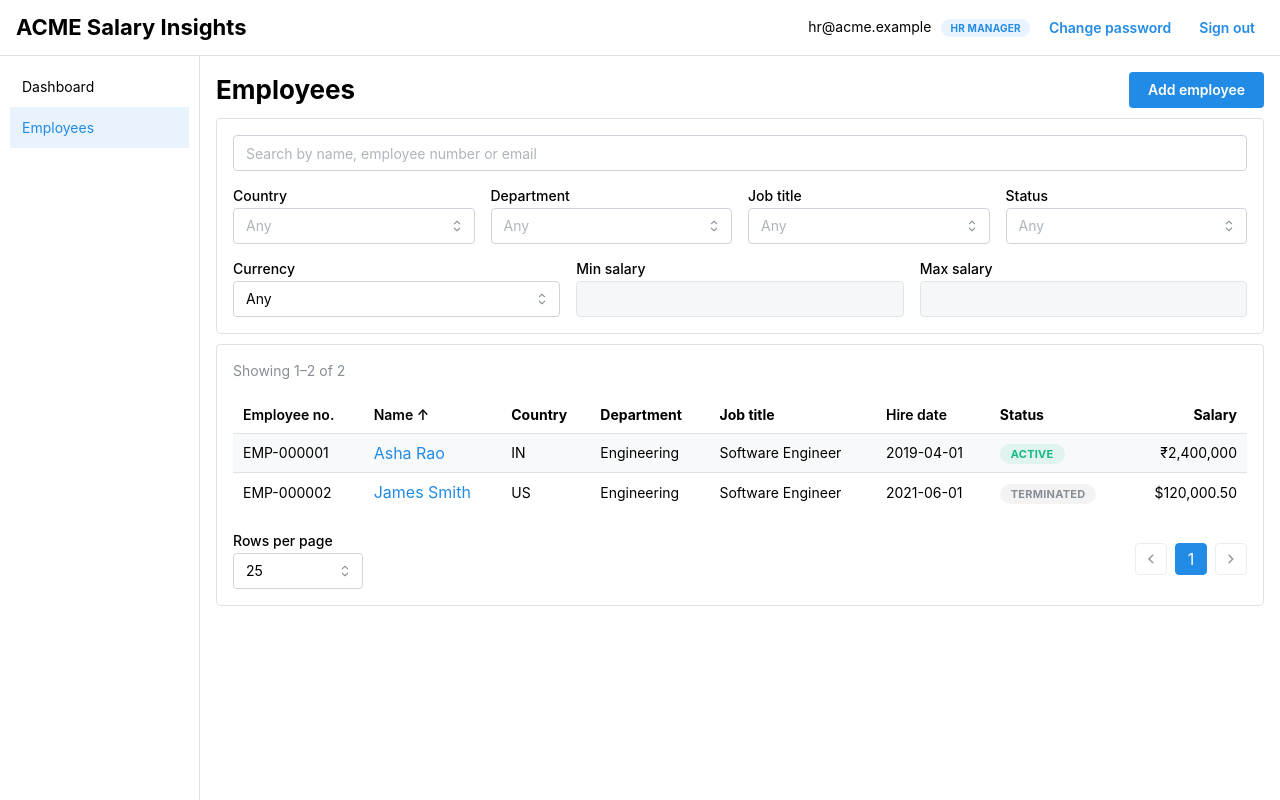
Test: Employee pages › from the directory › links each name to that employee’s page
Step 1. Click the link "Asha Rao" → x=409, y=453, box [374,443,445,463]
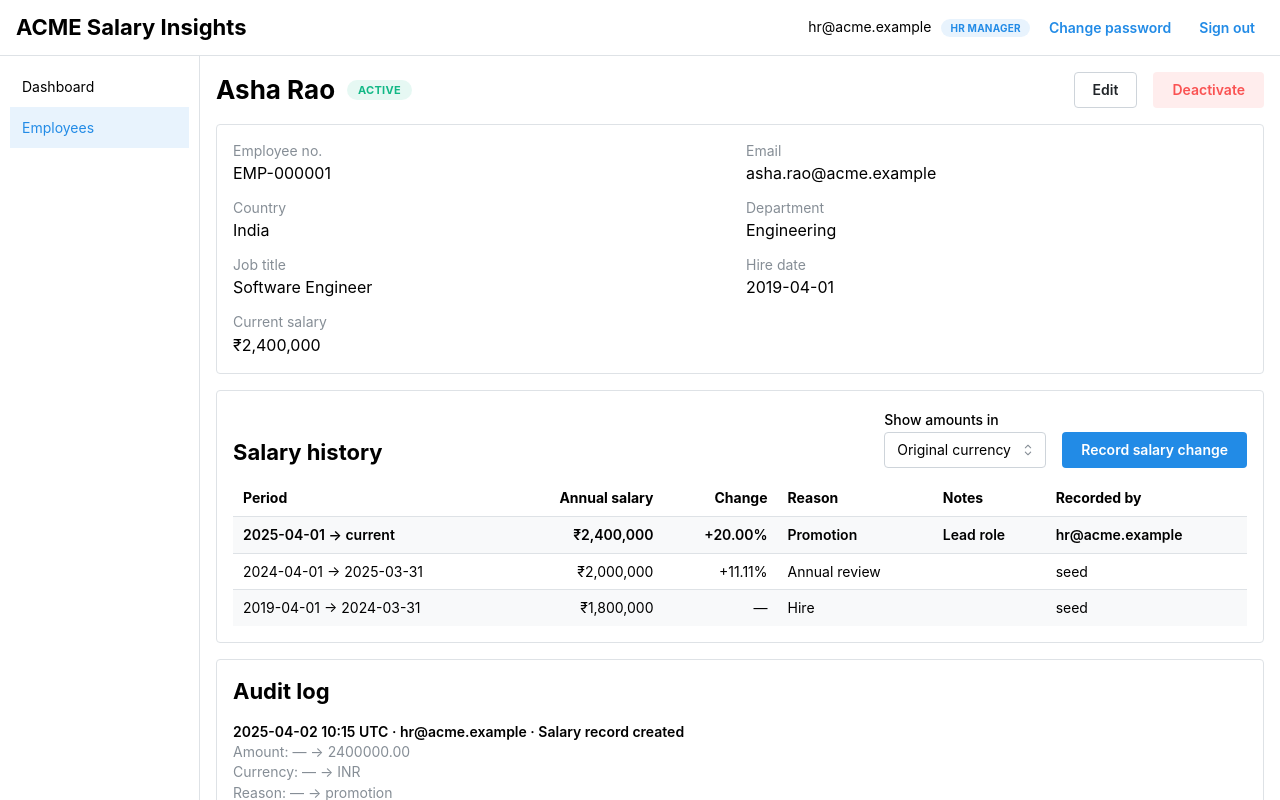
Check: the heading "Asha Rao" is shown, box [216,72,335,108]
